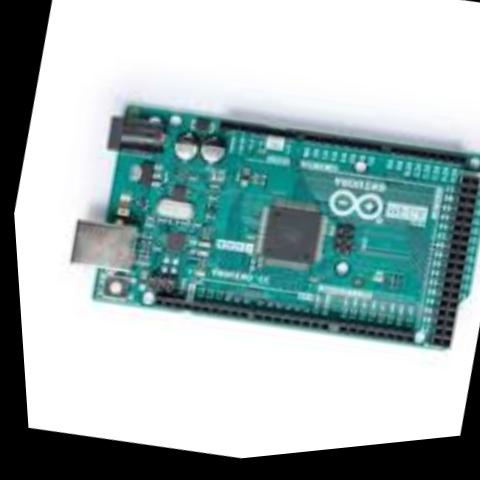Arduino-Mega: (26, 55, 480, 415)
